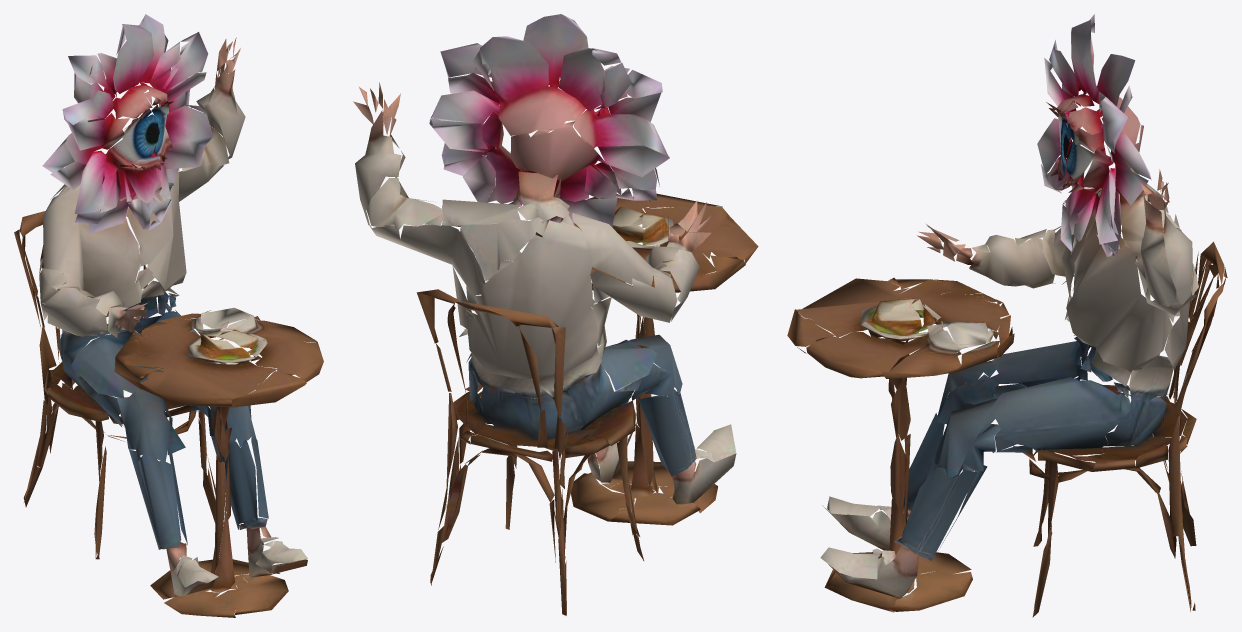
The model's file is crowd_sally.glb.
The picture shows the model from 3 angles, left to right: view 1: azimuth 30°, elevation 25°; view 2: azimuth 150°, elevation 25°; view 3: azimuth 270°, elevation 25°; orthographic projection. The views are drawn at different scales.
Visible parts, largest first — view 1: tripo_node_7916a89c-a101-44cf-a692-2e2f98568ff6; view 2: tripo_node_7916a89c-a101-44cf-a692-2e2f98568ff6; view 3: tripo_node_7916a89c-a101-44cf-a692-2e2f98568ff6.
Part boxes in pixels (x1,y1,x2,y2): tripo_node_7916a89c-a101-44cf-a692-2e2f98568ff6: [14, 14, 323, 617]; tripo_node_7916a89c-a101-44cf-a692-2e2f98568ff6: [353, 14, 758, 615]; tripo_node_7916a89c-a101-44cf-a692-2e2f98568ff6: [787, 14, 1227, 617].
Size of the model in its own units: 0.7187 by 1.4 by 1.
Materials: 1 (1 with a texture image).
